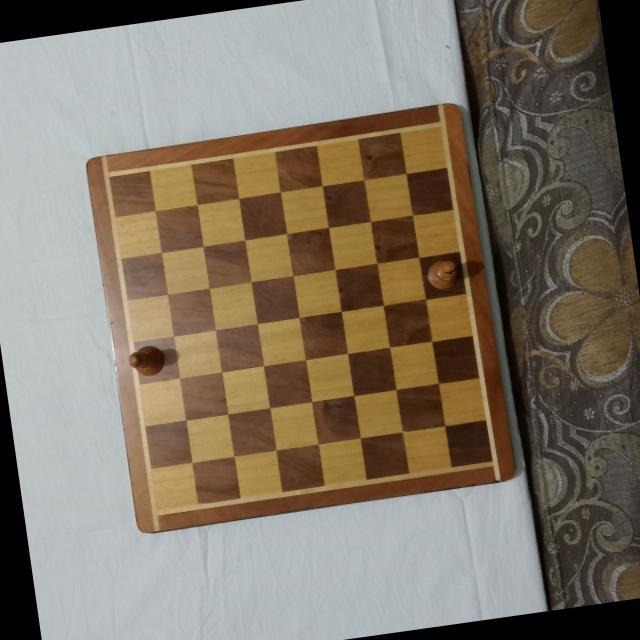white-bishop: (124, 341, 168, 380), (422, 255, 462, 294)
